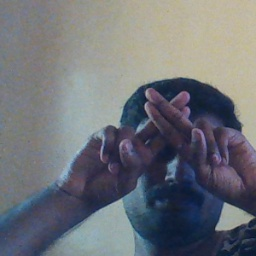F: (111, 79, 228, 181)
